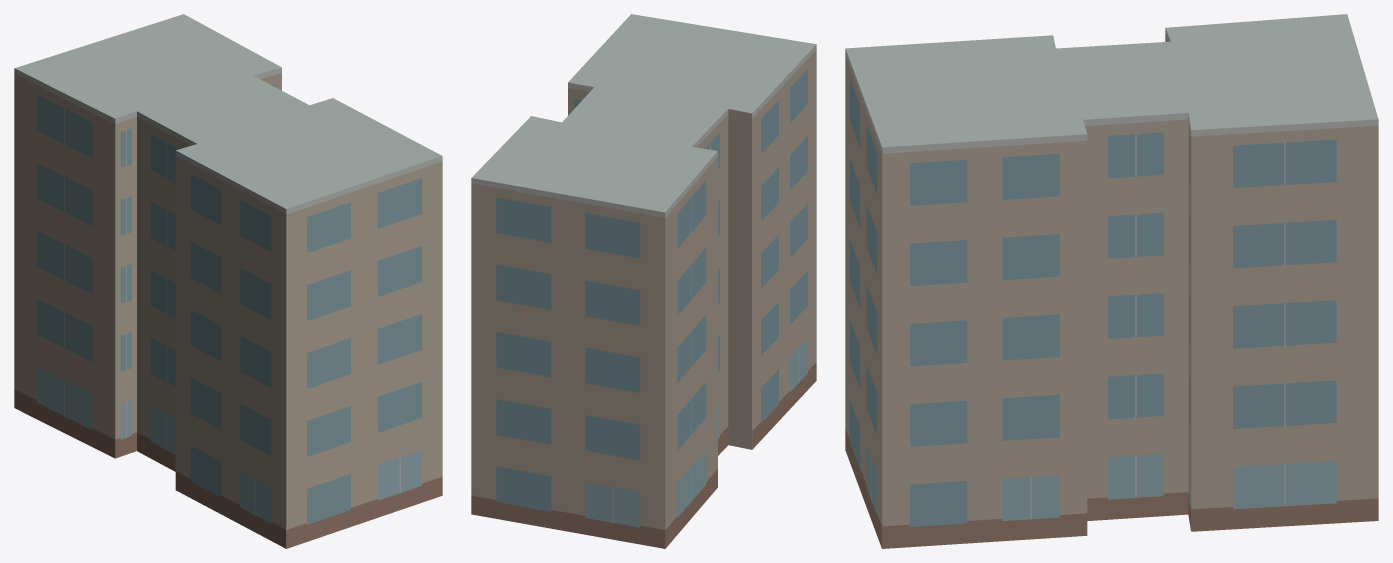
The model's file is survey-upis-32575380.glb.
3 views of the same model, side by side, from view 1: azimuth 30°, elevation 25°; view 2: azimuth 150°, elevation 25°; view 3: azimuth 270°, elevation 25° (orthographic). The views are drawn at different scales.
Parts seen in each view (by area): view 1: survey-upis-32575380.tmp; view 2: survey-upis-32575380.tmp; view 3: survey-upis-32575380.tmp.
Boxes of the visible parts, <box> form: survey-upis-32575380.tmp: <box>14,14,442,548</box>; survey-upis-32575380.tmp: <box>471,14,816,548</box>; survey-upis-32575380.tmp: <box>845,14,1378,548</box>.
Bounding box in the file's own units: 10.77 × 15.1 × 18.18.
